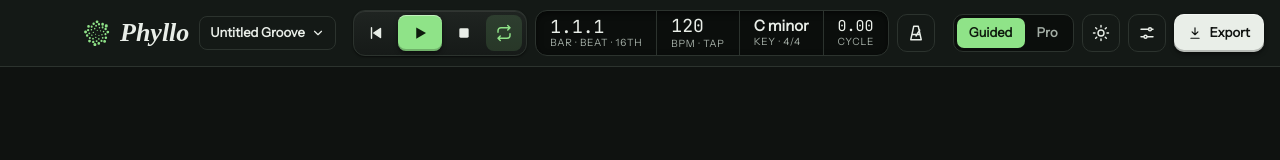
Test: AppHeader › should caption BPM with TAP in Guided and the setcpm form in Pro
This screenshot has width=1280, height=160.
Check: the button "BPM · TAP" is shown, box [657, 37, 739, 50]
Click the radio button labelled "Pro": (1047, 33) [1024, 18, 1070, 48]
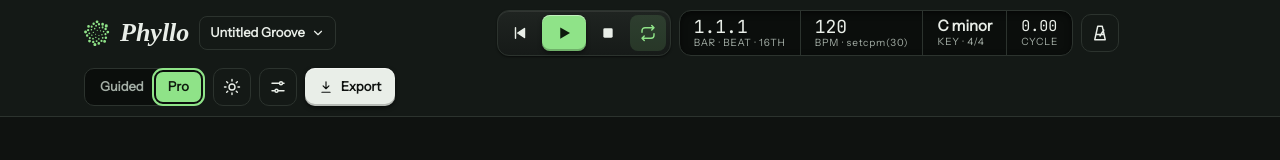
Check: the text "BPM · setcpm(30)" is shown, box [815, 36, 908, 49]
